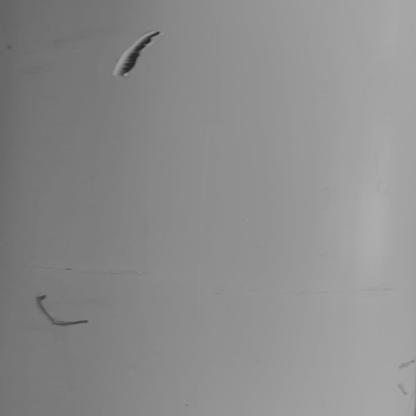fengxi: (31, 288, 90, 328)
kongdong: (105, 28, 167, 80)
